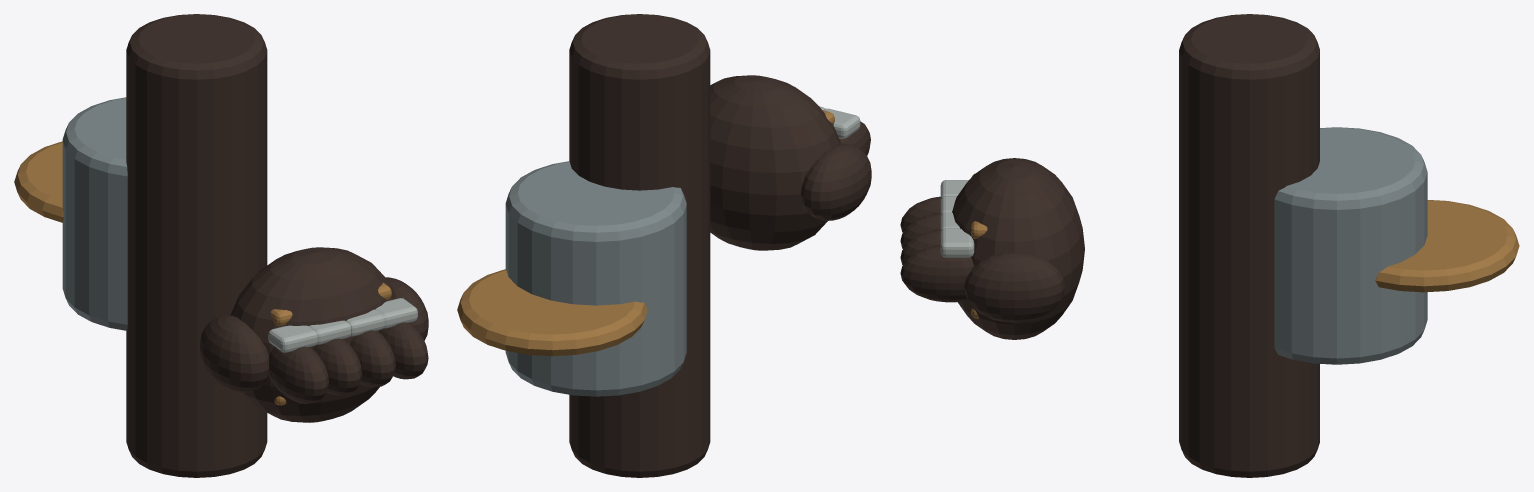
The model's file is fps_hands_blender.glb.
3 views of the same model, side by side, from view 1: azimuth 30°, elevation 25°; view 2: azimuth 150°, elevation 25°; view 3: azimuth 270°, elevation 25° (orthographic).
Parts seen in each view (by area): view 1: Forearm, Bracer, Palm, Thumb, BracerRim, Finger_0, Finger_1, Finger_2, Finger_3, Knuckle_0, Thumb.001, Knuckle_3 (+3 smaller); view 2: Forearm, Bracer, Palm, BracerRim, Thumb, Knuckle_0, Finger_0; view 3: Forearm, Bracer, Palm, BracerRim, Thumb.001, Finger_3, Knuckle_3, Finger_1, Finger_0, Finger_2.
Boxes of the visible parts, box(x1,y1,x2,y2) form: Forearm: box(126, 14, 267, 477); Bracer: box(62, 97, 127, 330); Palm: box(230, 247, 396, 422); Thumb: box(200, 315, 268, 392); BracerRim: box(14, 141, 63, 222); Finger_0: box(269, 346, 328, 403); Finger_1: box(313, 338, 362, 395); Finger_2: box(350, 330, 395, 387); Finger_3: box(379, 322, 428, 379); Knuckle_0: box(268, 325, 317, 352); Thumb.001: box(385, 277, 428, 340); Knuckle_3: box(375, 298, 417, 328); Forearm: box(569, 14, 710, 477); Bracer: box(505, 161, 686, 396); Palm: box(710, 75, 840, 250); BracerRim: box(457, 269, 647, 356); Thumb: box(801, 143, 871, 220); Knuckle_0: box(823, 108, 860, 138); Finger_0: box(839, 121, 870, 155); Forearm: box(1179, 14, 1319, 477); Bracer: box(1274, 127, 1427, 364); Palm: box(952, 158, 1084, 339); BracerRim: box(1375, 200, 1519, 292); Thumb.001: box(964, 252, 1064, 322); Finger_3: box(900, 245, 973, 302); Knuckle_3: box(940, 228, 974, 257); Finger_1: box(900, 213, 940, 248); Finger_0: box(900, 196, 940, 232); Finger_2: box(900, 229, 940, 264).
Bounding box in the file's own units: 0.36 × 0.68 × 0.922.
